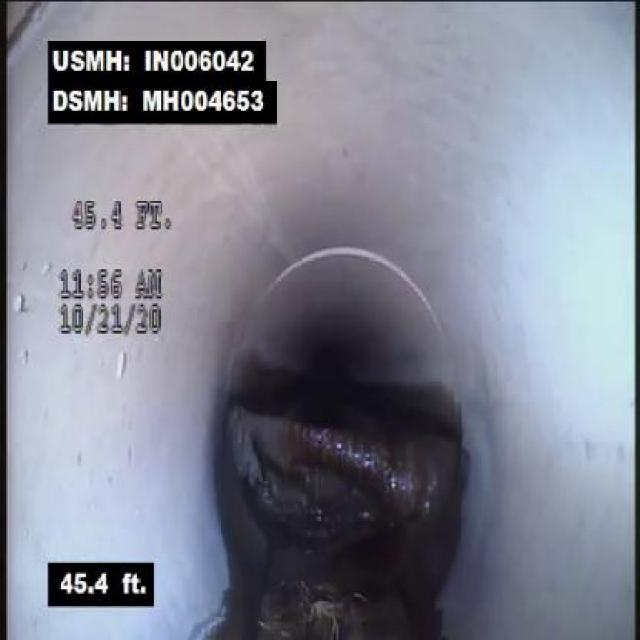Obstacle: (206, 388, 477, 598)
